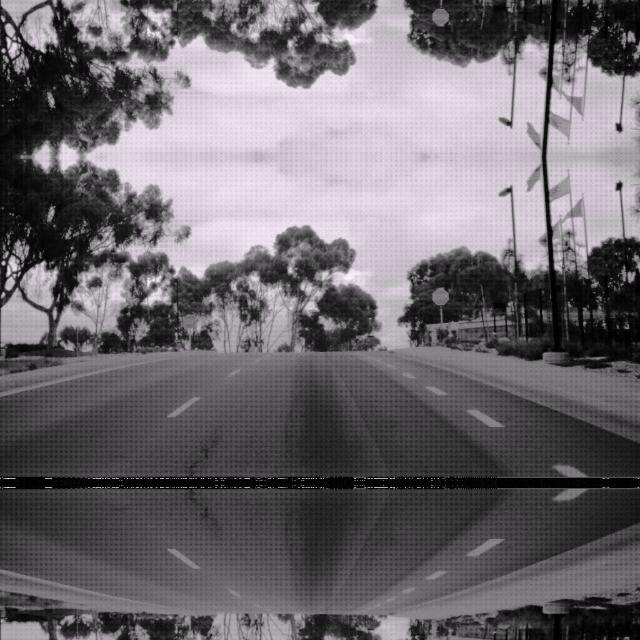stop: (432, 286, 448, 304), (432, 8, 448, 26), (184, 313, 196, 327)
